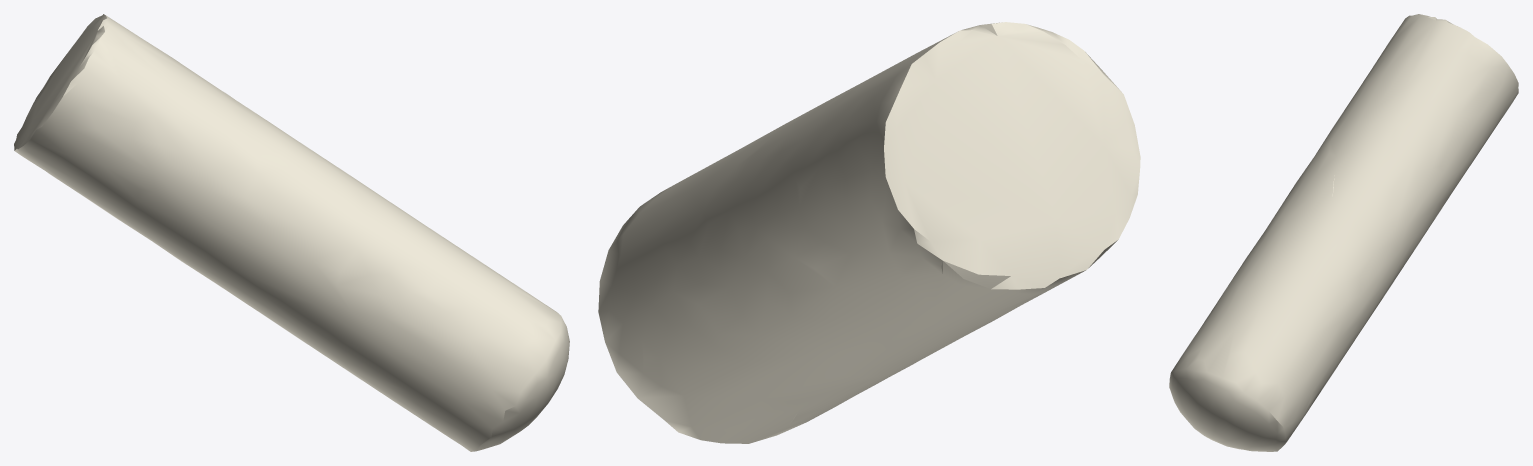
Rendered from fma54776_mm2145.glb.
3 views of the same model, side by side, from view 1: azimuth 30°, elevation 25°; view 2: azimuth 150°, elevation 25°; view 3: azimuth 270°, elevation 25° (orthographic). The views are drawn at different scales.
Visible parts, largest first — view 1: FMA54776_MM2145; view 2: FMA54776_MM2145; view 3: FMA54776_MM2145.
Part boxes in pixels (x1,y1,x2,y2): FMA54776_MM2145: (14,14,569,451); FMA54776_MM2145: (598,22,1140,443); FMA54776_MM2145: (1169,14,1518,451).
Size of the model in its own units: 0.00851 by 0.00762 by 0.00736.
